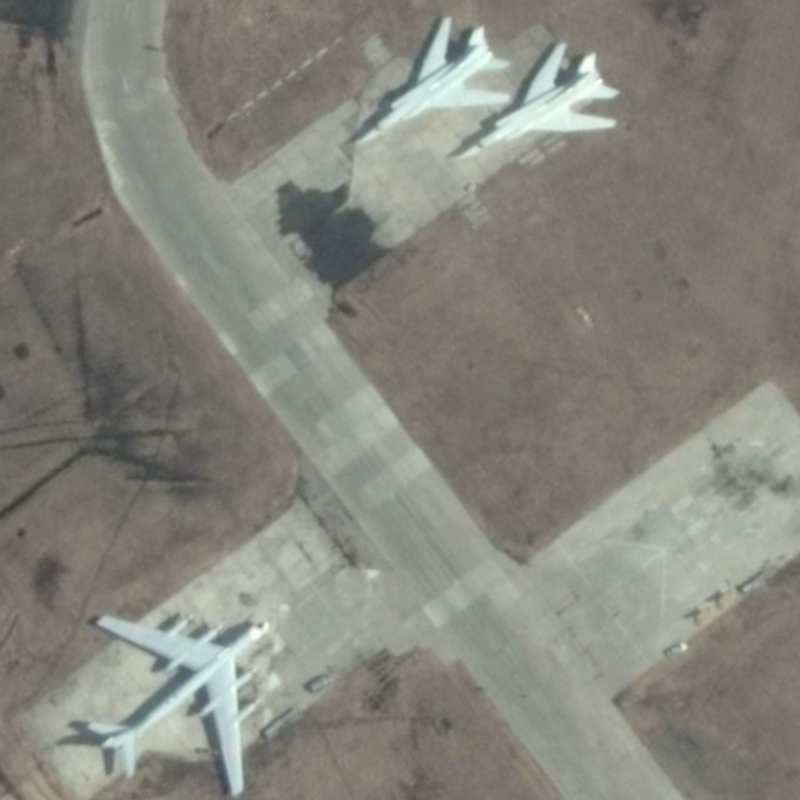A12: (354, 12, 514, 148), (453, 39, 623, 161)
A17: (83, 611, 272, 800)
